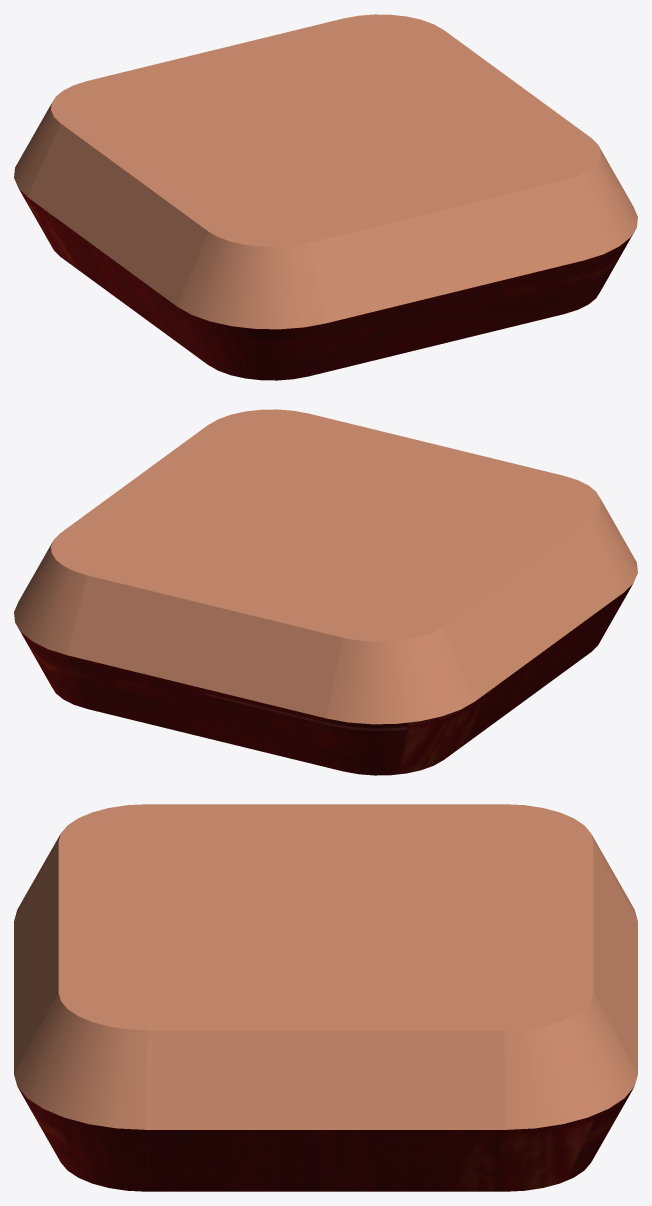
The model's file is model_animation.glb.
The picture shows the model from 3 angles, top to bottom: view 1: azimuth 30°, elevation 25°; view 2: azimuth 150°, elevation 25°; view 3: azimuth 270°, elevation 25°; orthographic projection. The views are drawn at different scales.
Visible parts, largest first — view 1: Rectangle1-mesh, Rectangle0-mesh; view 2: Rectangle1-mesh, Rectangle0-mesh; view 3: Rectangle1-mesh, Rectangle0-mesh.
Boxes of the visible parts, x1=… form: Rectangle1-mesh: x1=14, y1=14, x2=637, y2=329; Rectangle0-mesh: x1=19, y1=189, x2=634, y2=380; Rectangle1-mesh: x1=14, y1=409, x2=637, y2=724; Rectangle0-mesh: x1=17, y1=584, x2=632, y2=775; Rectangle1-mesh: x1=14, y1=804, x2=637, y2=1129; Rectangle0-mesh: x1=18, y1=1087, x2=633, y2=1191.
Size of the model in its own units: 0.07 by 0.02 by 0.07.
Materials: 2 (1 with a texture image).
